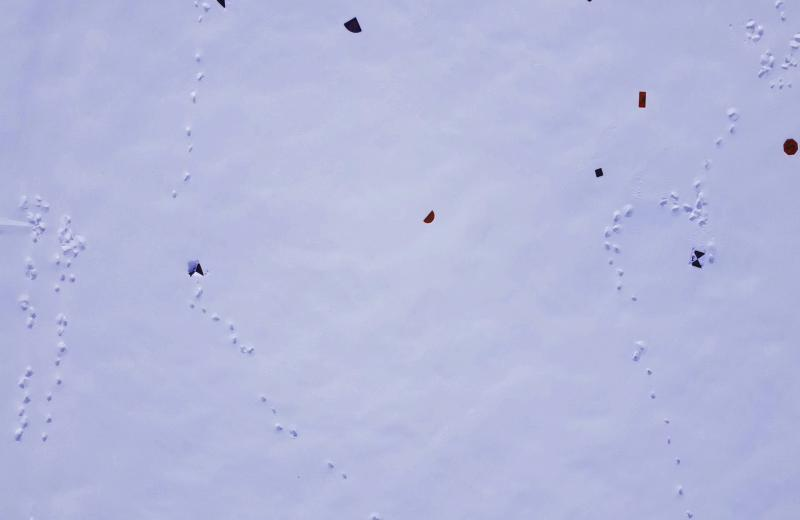Octagon: (783, 136, 800, 156)
Quarter Circle: (343, 16, 363, 34)
Rectangle: (637, 90, 647, 110)
Semi Circle: (423, 209, 435, 226)
Square: (594, 167, 604, 180)
